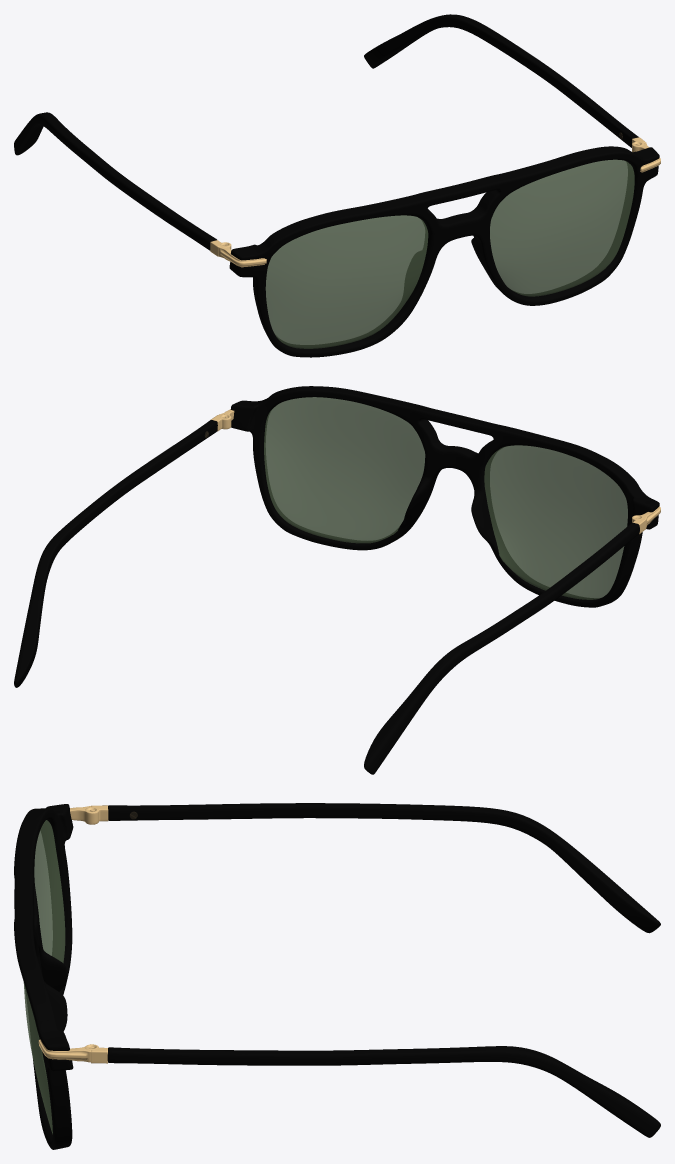
The model's file is brimmer-sun-sbf-jet-black-with-polished-gold_wide (1).glb.
3 renders of one model, top to bottom at view 1: azimuth 30°, elevation 25°; view 2: azimuth 150°, elevation 25°; view 3: azimuth 270°, elevation 25°, orthographic. The views are drawn at different scales.
Visible parts, largest first — view 1: lenses, face_front, left_temple, right_temple, front_hinge; view 2: lenses, face_front, right_temple, left_temple; view 3: face_front, right_temple, left_temple, lenses, front_hinge.
Part boxes in pixels (<box>): lenses: <box>265,159,634,348</box>; face_front: <box>229,146,659,357</box>; left_temple: <box>364,14,638,147</box>; right_temple: <box>14,112,216,250</box>; front_hinge: <box>218,143,660,267</box>; lenses: <box>264,397,627,599</box>; face_front: <box>230,386,659,607</box>; right_temple: <box>364,522,639,774</box>; left_temple: <box>14,420,217,687</box>; face_front: <box>14,804,73,1149</box>; right_temple: <box>108,803,660,933</box>; left_temple: <box>107,1046,660,1137</box>; lenses: <box>23,820,65,1134</box>; front_hinge: <box>38,806,98,1062</box>.
Bounding box in the file's own units: 0.1436 × 0.0461 × 0.1552.
